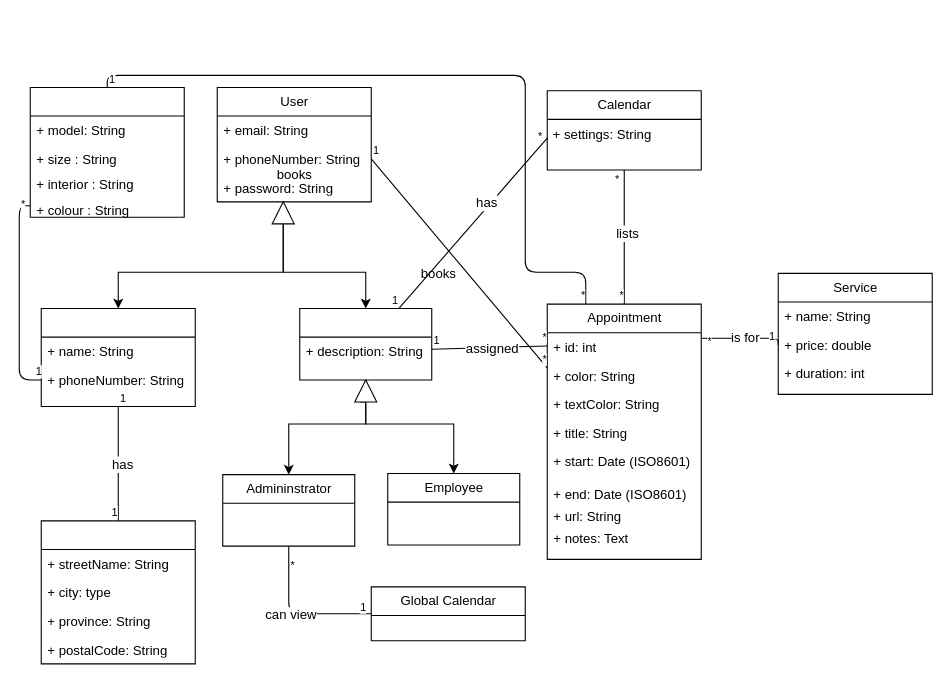
This 952x685 diagram has some shape labels left out. Here are the shapes that lost their labels. From the top down, the box of each, then its label:
(29, 86, 184, 217): Car
(40, 307, 195, 406): Client
(299, 307, 432, 380): Staff
(40, 520, 195, 664): Address
